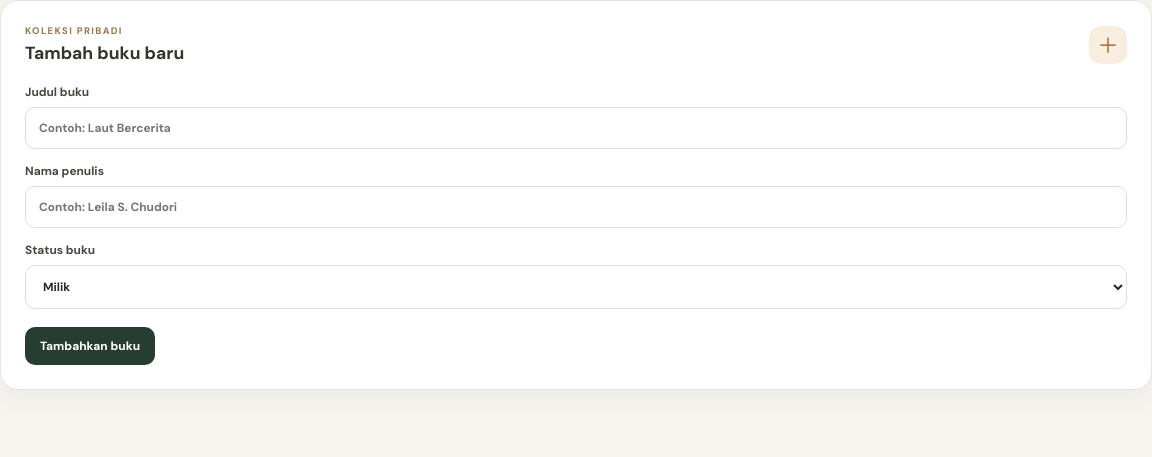
Test: BookForm › menampilkan validasi ketika judul dan penulis kosong
This screenshot has width=1152, height=457.
Click the button "Tambahkan buku": (90, 346) [25, 327, 155, 365]
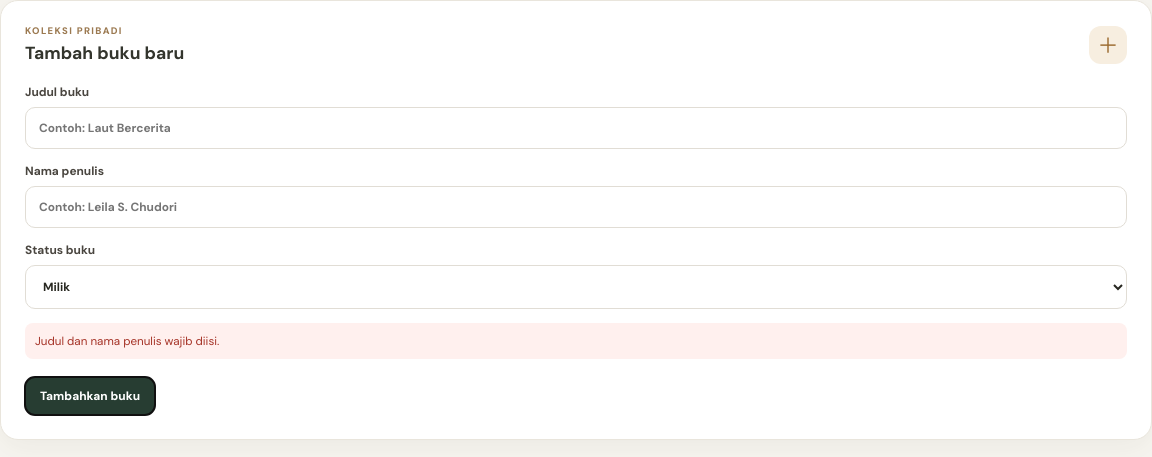
Expected: the message reads "Judul dan nama penulis wajib diisi.", [35, 333, 219, 349]
